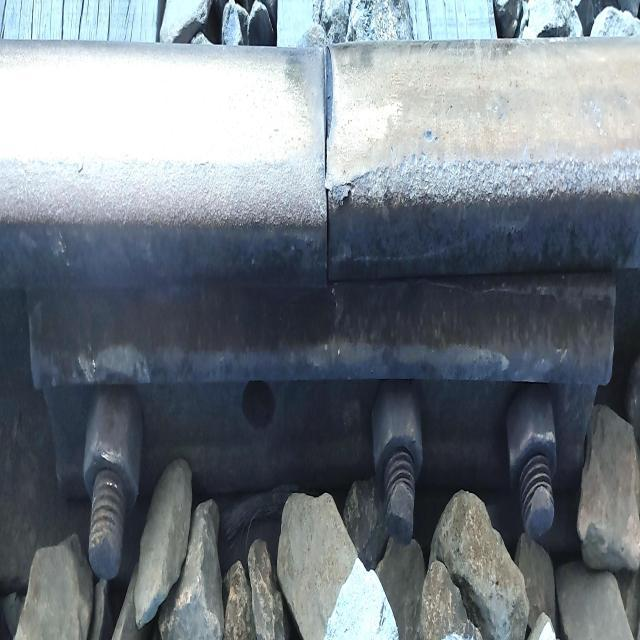Defective Joint: (26, 275, 620, 599)
